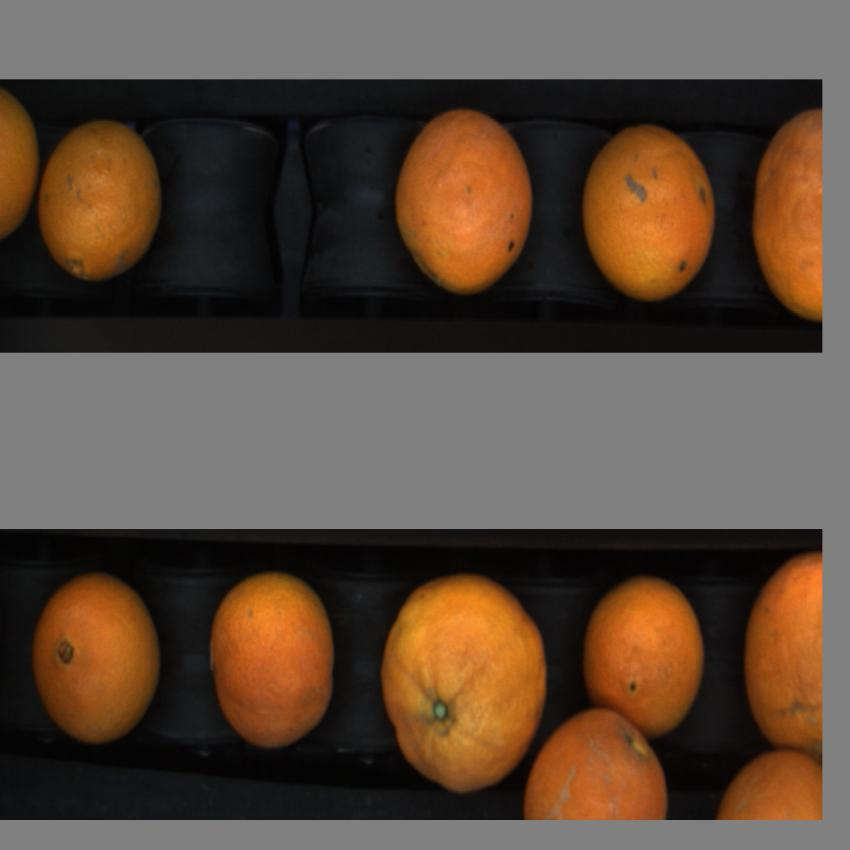Buen estado: (380, 569, 550, 799), (392, 98, 538, 304), (579, 118, 721, 313), (205, 570, 338, 756), (577, 564, 715, 742), (33, 564, 164, 750), (37, 113, 168, 290), (523, 699, 673, 830), (744, 549, 822, 750), (716, 746, 822, 818), (0, 86, 42, 256)
Mal estado: (748, 106, 823, 326)
